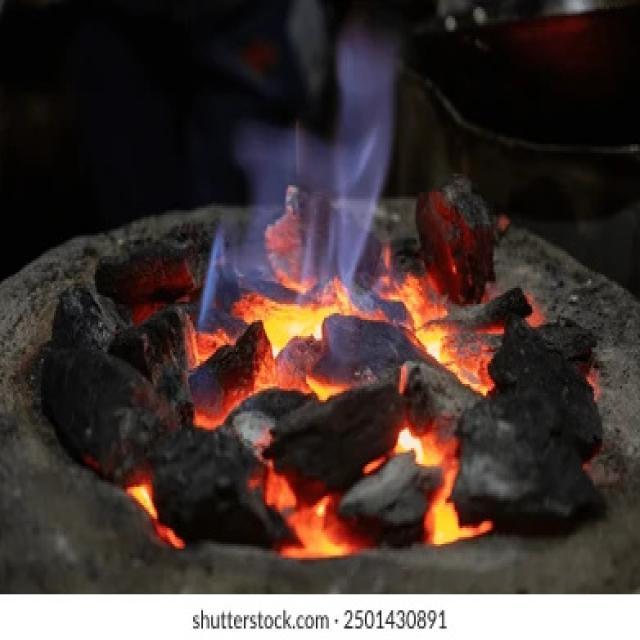fire: (266, 461, 346, 557), (253, 303, 339, 353), (399, 276, 444, 364), (427, 494, 492, 546)
